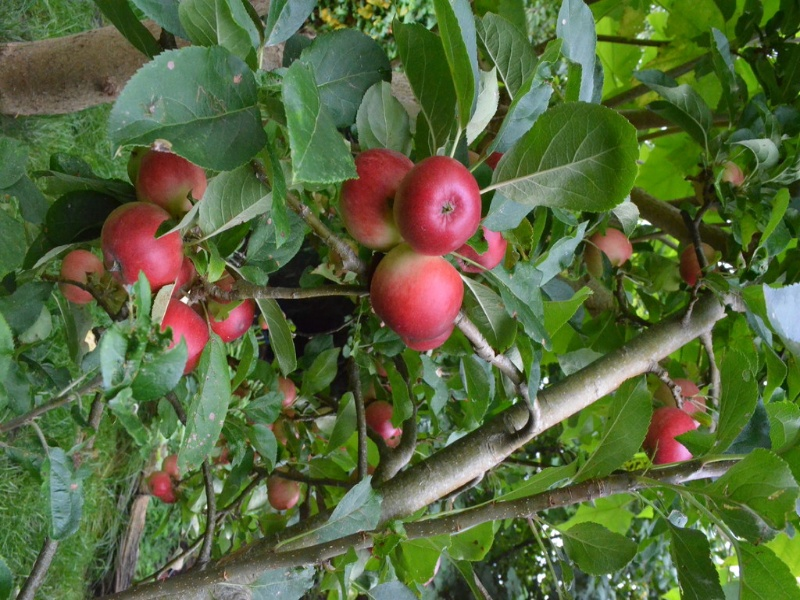apple: (381, 150, 488, 259), (356, 237, 469, 340), (89, 197, 183, 304), (333, 148, 407, 249), (125, 149, 206, 213)
